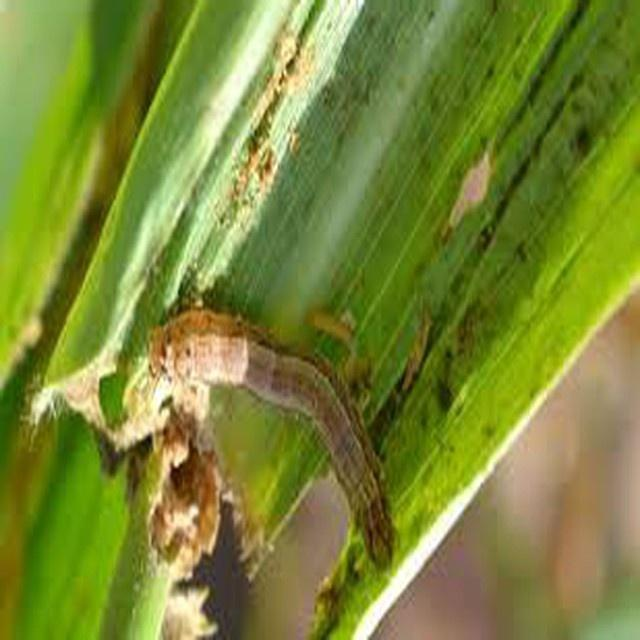gusano_cogollero: (165, 316, 398, 564)
